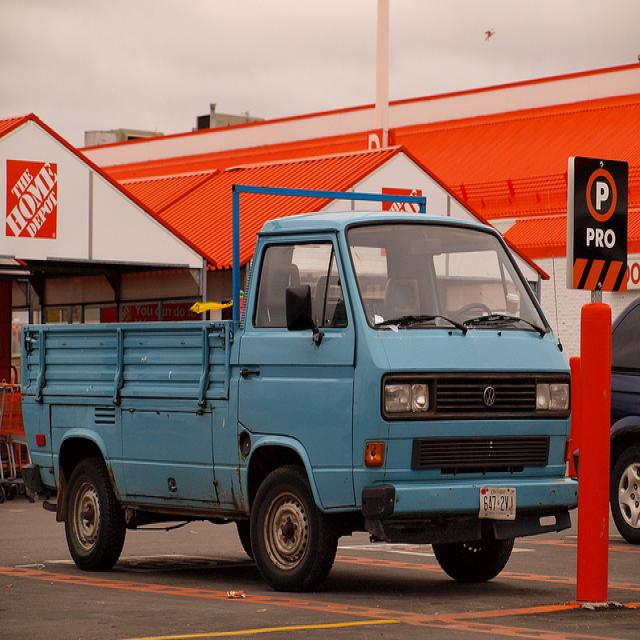Vehicle: (21, 188, 574, 587), (610, 296, 640, 546)
